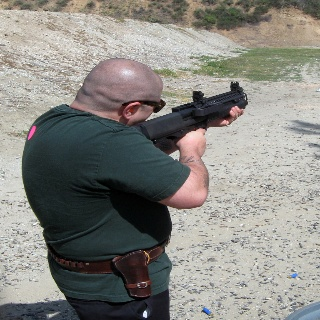rifle: (138, 80, 250, 141)
